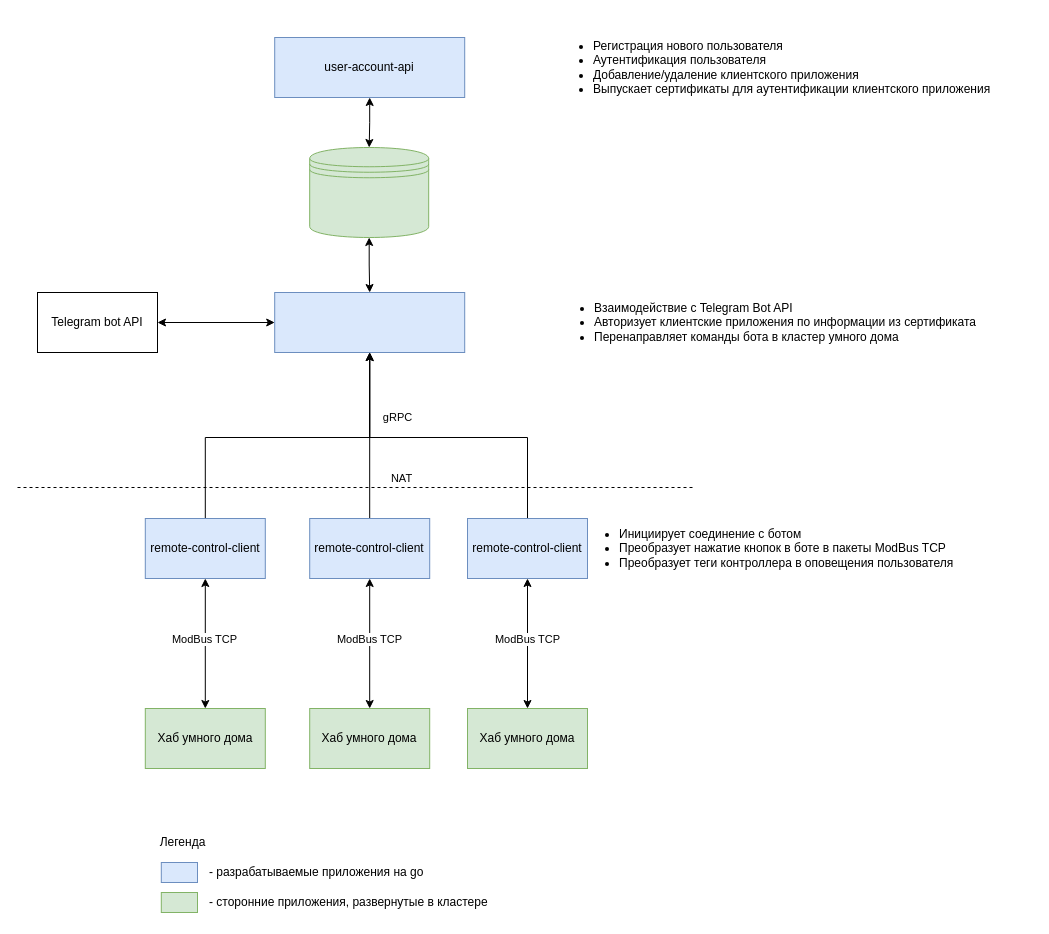
This 1049x934 diagram has some shape labels left out. The shapes that lost their labels are listed below. From the top down, each one's centre as x and y in pixels, then its label:
At point 369,192: "PostgreSQL".
At point 369,322: "rc-tg-bot".
